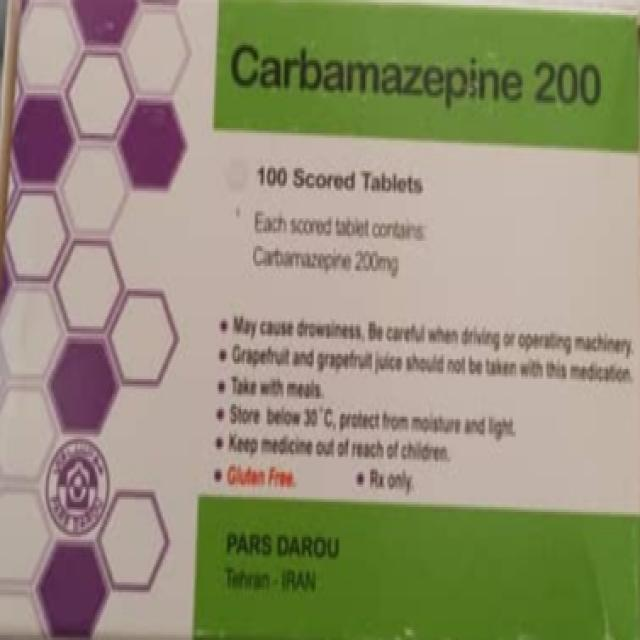drug-name: (225, 35, 605, 110)
